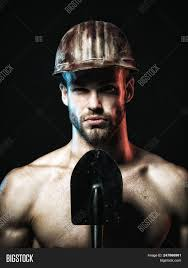Person_wearing_helmet: (50, 18, 135, 93)
